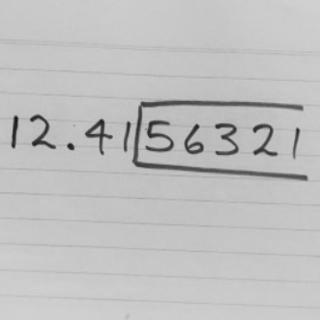.: (66, 138, 76, 154)
1: (9, 114, 22, 150), (292, 125, 300, 159), (121, 119, 129, 150)
2: (29, 113, 56, 146), (252, 123, 278, 157)
3: (212, 120, 239, 156)
4: (87, 116, 113, 157)
5: (146, 118, 176, 156)
6: (184, 123, 204, 155)
